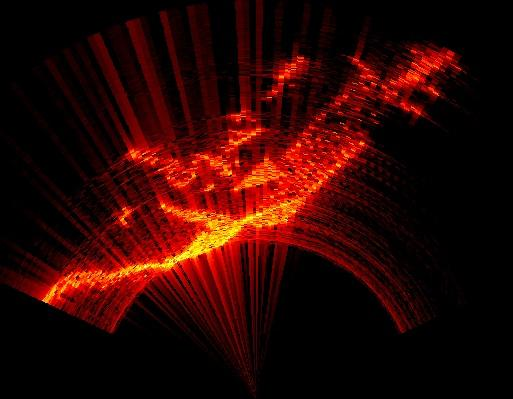shipwreck: (42, 138, 369, 303), (129, 153, 290, 186), (199, 125, 266, 160), (162, 208, 221, 221)
